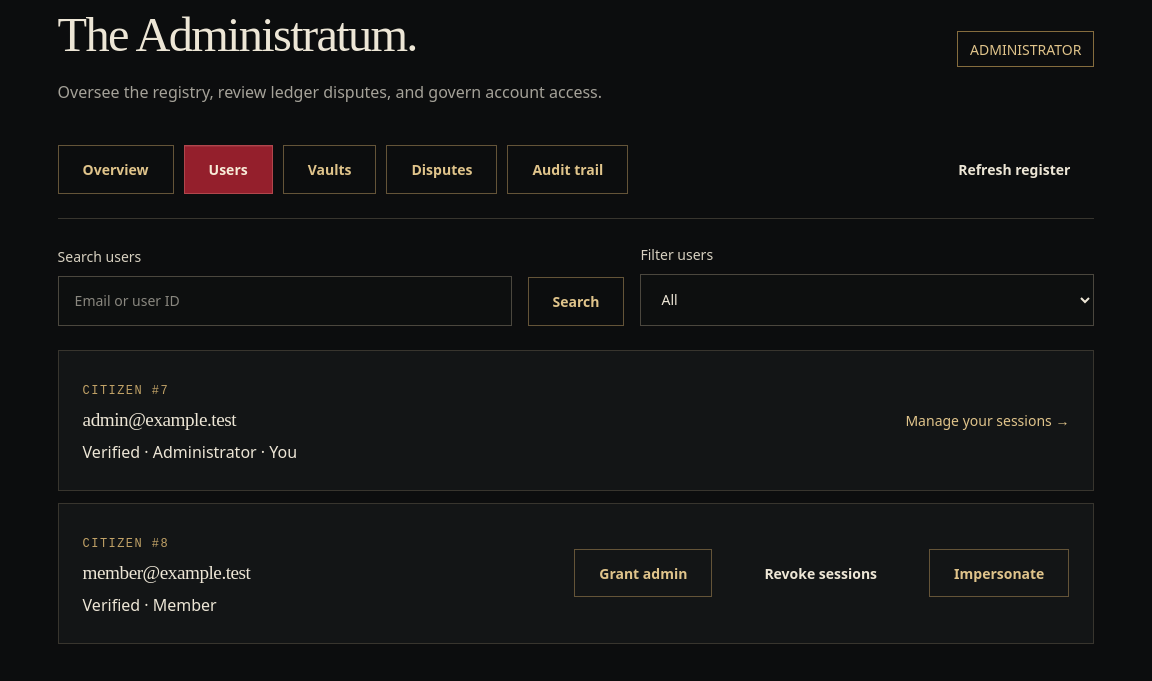
Scenario: self role controls are absent and a grant requires typed email and reason
(page scrolled)
Expected: the heading "member@example.test" is shown, [83,562,250,584]
Click the button "Grant admin". click: (643, 573)
box: [574,549,712,597]
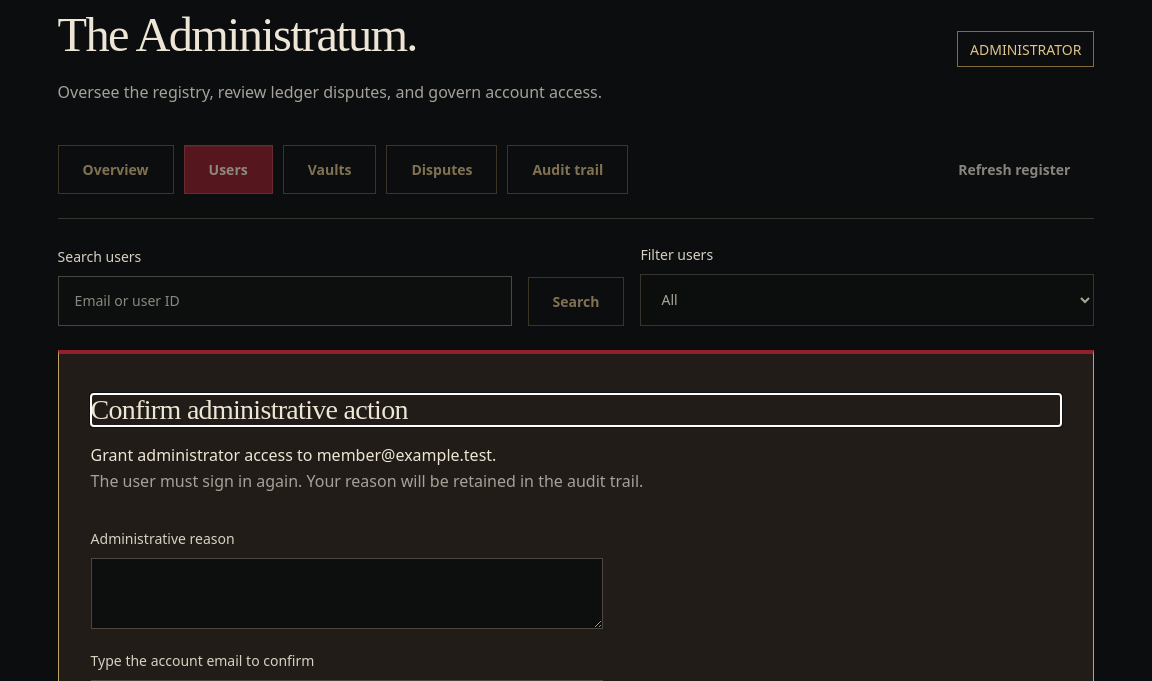
Type "Support coverage" into the text box labelled "Administrative reason". click: (347, 594)
box: [91,558,603,629]
(page scrolled)
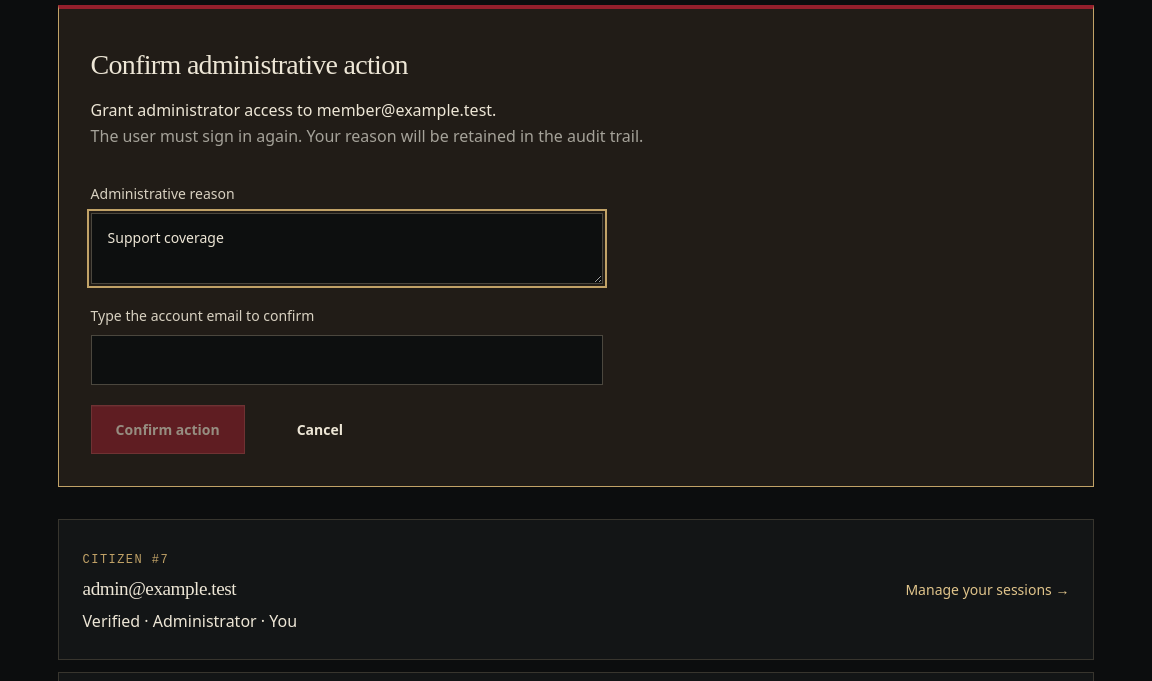
Type "member@example.test" into the field labelled "Type the account email to confirm". click: (347, 360)
box: [91,335,603,385]
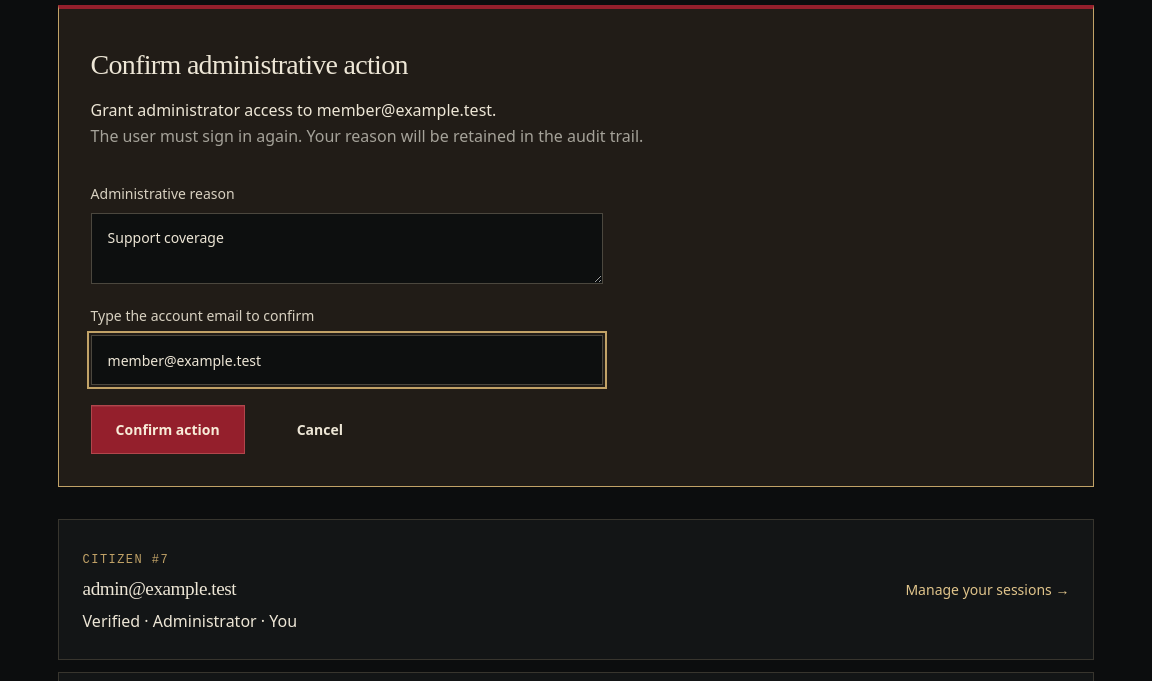
Click the button "Confirm action". click: (168, 430)
box: [91,405,245,454]
(page scrolled)
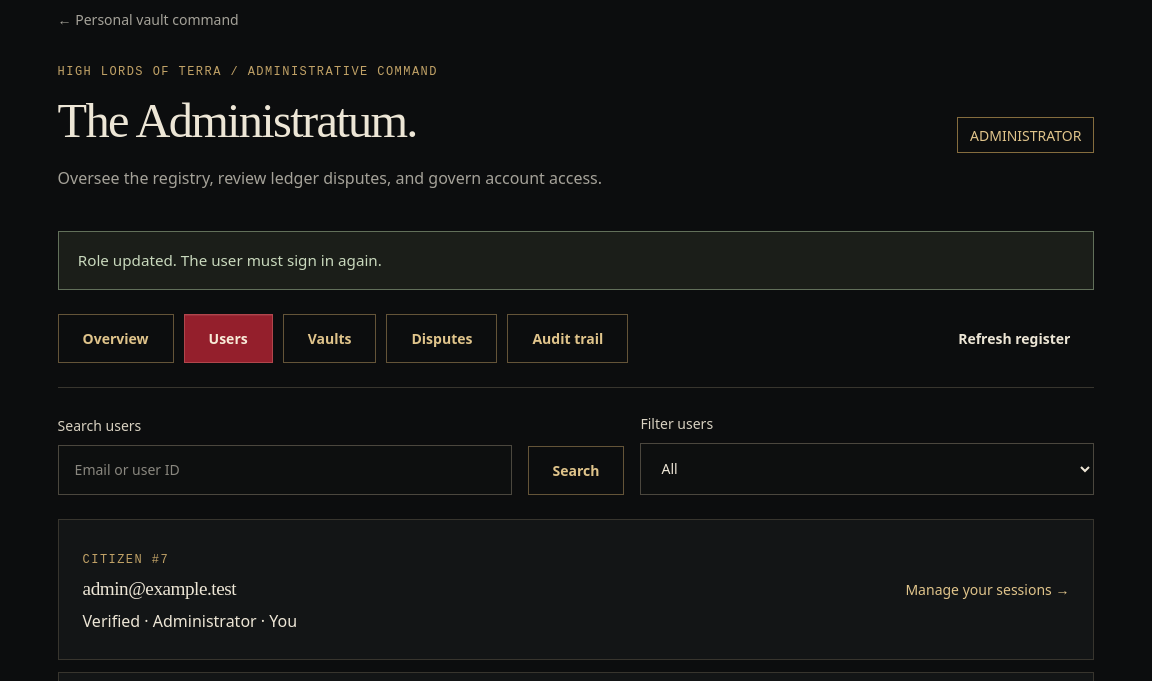
Expected: the text "Role updated. The user must sign in again." is shown, [58,231,1094,290]
